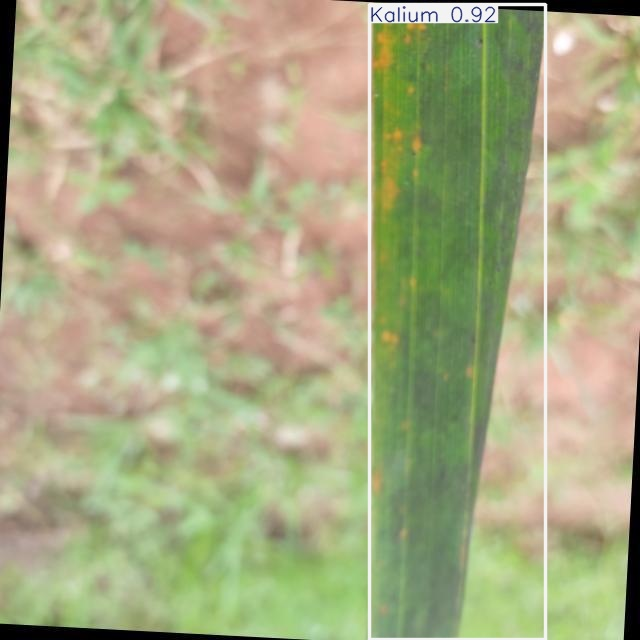Kalium: (369, 4, 546, 639)
